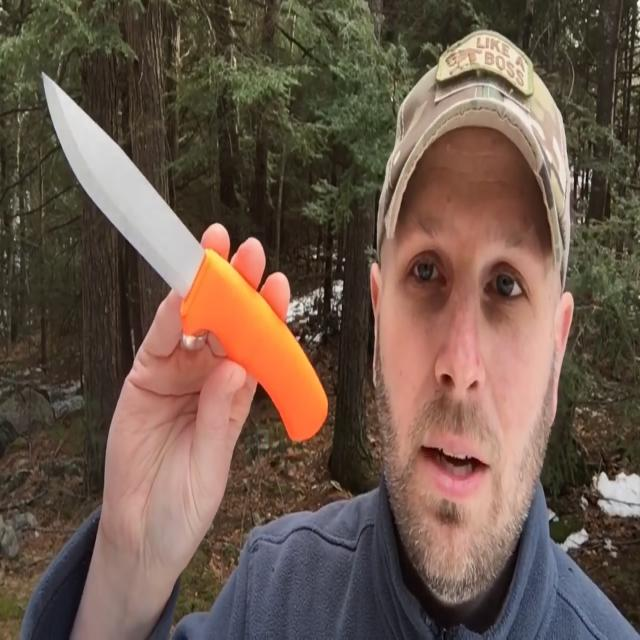knife: (37, 61, 337, 456)
